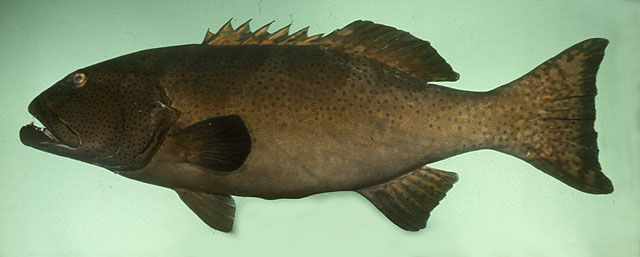fish: (19, 16, 615, 233)
